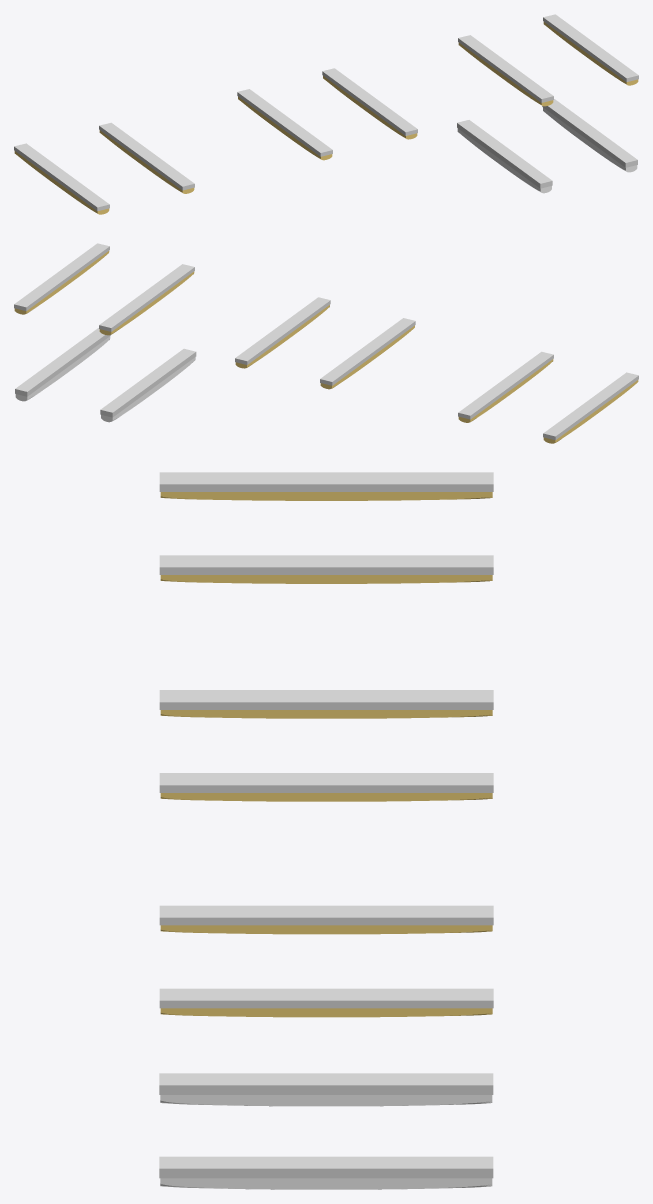
The model's file is light3-on.glb.
3 views of the same model, one above another, from view 1: azimuth 30°, elevation 25°; view 2: azimuth 150°, elevation 25°; view 3: azimuth 270°, elevation 25° (orthographic). The views are drawn at different scales.
Visible parts, largest first — view 1: Cube.006, Cube.005, Cube.003, Cube.004, Cube.018, Cube.017, Cube.007, Cube.008; view 2: Cube.006, Cube.005, Cube.004, Cube.017, Cube.018, Cube.003, Cube.008, Cube.007; view 3: Cube.005, Cube.006, Cube.003, Cube.004, Cube.017, Cube.018, Cube.007, Cube.008.
Part boxes in pixels (x1=…): Cube.006: x1=457, y1=120, x2=552, y2=193; Cube.005: x1=542, y1=99, x2=637, y2=172; Cube.003: x1=458, y1=35, x2=553, y2=106; Cube.004: x1=543, y1=14, x2=638, y2=85; Cube.018: x1=99, y1=122, x2=194, y2=193; Cube.017: x1=14, y1=143, x2=109, y2=214; Cube.007: x1=322, y1=68, x2=417, y2=139; Cube.008: x1=237, y1=89, x2=332, y2=160; Cube.006: x1=100, y1=348, x2=196, y2=422; Cube.005: x1=15, y1=328, x2=110, y2=401; Cube.004: x1=14, y1=243, x2=109, y2=314; Cube.017: x1=543, y1=372, x2=638, y2=443; Cube.018: x1=458, y1=351, x2=553, y2=422; Cube.003: x1=99, y1=264, x2=194, y2=335; Cube.008: x1=320, y1=318, x2=415, y2=389; Cube.007: x1=235, y1=297, x2=330, y2=368; Cube.005: x1=159, y1=1156, x2=493, y2=1189; Cube.006: x1=159, y1=1073, x2=493, y2=1106; Cube.003: x1=159, y1=905, x2=493, y2=934; Cube.004: x1=159, y1=988, x2=493, y2=1017; Cube.017: x1=159, y1=472, x2=493, y2=500; Cube.018: x1=159, y1=555, x2=493, y2=583; Cube.007: x1=159, y1=773, x2=493, y2=801; Cube.008: x1=159, y1=690, x2=493, y2=718.
Size of the model in its own units: 20.36 by 3.42 by 5.44.
